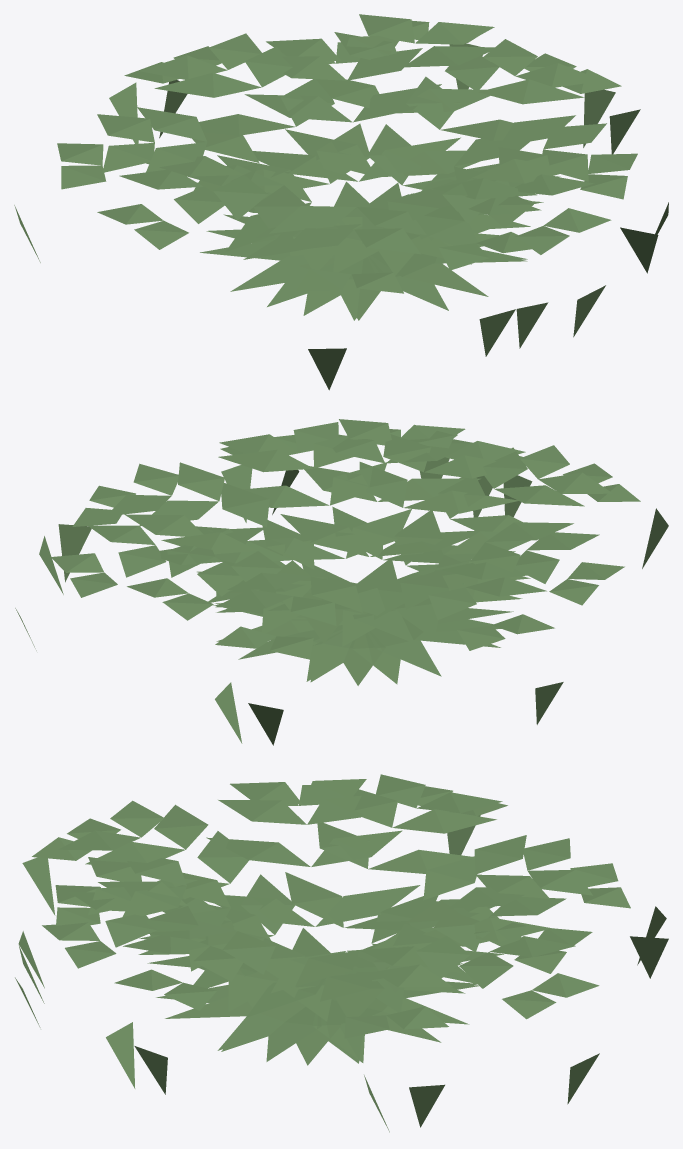
The model's file is v03_fern_lod1.fbx.
3 views of the same model, one above another, from view 1: azimuth 30°, elevation 25°; view 2: azimuth 150°, elevation 25°; view 3: azimuth 270°, elevation 25° (orthographic). The views are drawn at different scales.
Parts seen in each view (by area): view 1: v03_fern.004; view 2: v03_fern.004; view 3: v03_fern.004.
Boxes of the visible parts, bbox=[...] form: v03_fern.004: bbox=[14, 14, 668, 390]; v03_fern.004: bbox=[15, 419, 668, 745]; v03_fern.004: bbox=[15, 774, 668, 1132].
Size of the model in its own units: 8375 by 8520 by 1624.
